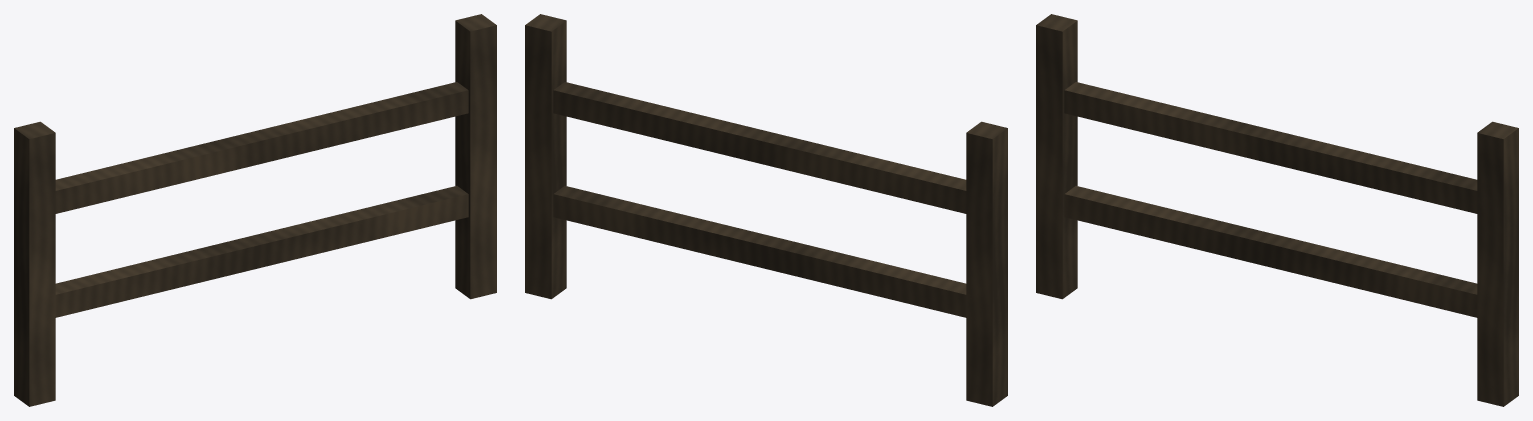
File: Fence_2m.glb
3 renders of one model, left to right at view 1: azimuth 30°, elevation 25°; view 2: azimuth 150°, elevation 25°; view 3: azimuth 330°, elevation 25°, orthographic.
Visible parts, largest first — view 1: Fence_2m; view 2: Fence_2m; view 3: Fence_2m.
Part boxes in pixels (x1,y1,x2,y2): Fence_2m: [14, 14, 496, 406]; Fence_2m: [525, 14, 1007, 406]; Fence_2m: [1036, 14, 1518, 406].
Bounding box in the file's own units: 2.12 × 1.16 × 0.12.
Materials: 1 (1 with a texture image).
